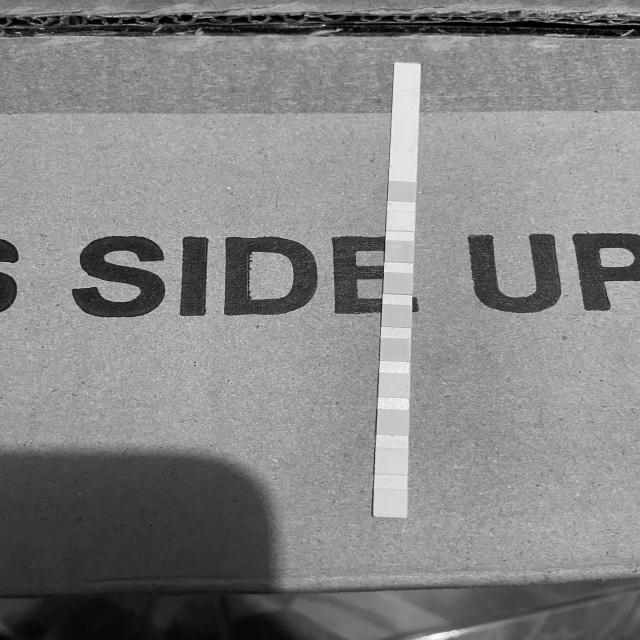Bilirubin: (388, 212, 413, 230)
Blood: (383, 305, 411, 326)
Glucose: (389, 182, 416, 201)
Ketone: (387, 242, 413, 261)
Leukocytes: (375, 491, 407, 516)
Nitrite: (376, 449, 408, 474)
Protein: (380, 374, 410, 396)
SpGravity: (386, 274, 412, 293)
Urobilinogen: (378, 410, 408, 433)
background: (0, 0, 640, 640)
pH: (382, 340, 410, 360)
strip: (373, 62, 421, 518)
